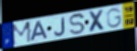A: (30, 20, 49, 42)
G: (106, 7, 123, 29)
J: (54, 16, 67, 36)
M: (11, 20, 32, 47)
S: (69, 13, 86, 35)
X: (88, 8, 107, 33)
